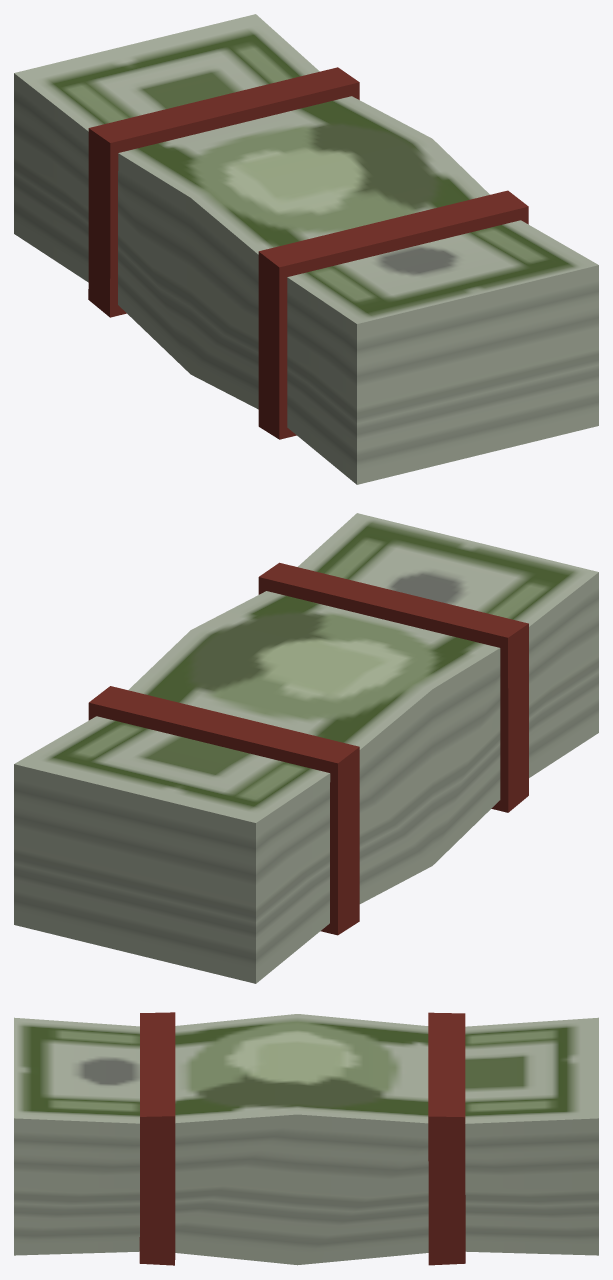
File: SM_Prop_Money_Stack_01.fbx
3 views of the same model, one above another, from view 1: azimuth 30°, elevation 25°; view 2: azimuth 150°, elevation 25°; view 3: azimuth 270°, elevation 25° (orthographic). The views are drawn at different scales.
Parts seen in each view (by area): view 1: SM_Prop_Money_Stack_01; view 2: SM_Prop_Money_Stack_01; view 3: SM_Prop_Money_Stack_01.
Boxes of the visible parts, x1,y1,x2,y2 form: SM_Prop_Money_Stack_01: (14,14,598,484); SM_Prop_Money_Stack_01: (14,513,598,983); SM_Prop_Money_Stack_01: (14,1012,598,1265).
Size of the model in its own units: 11.49 by 7.77 by 27.35.
